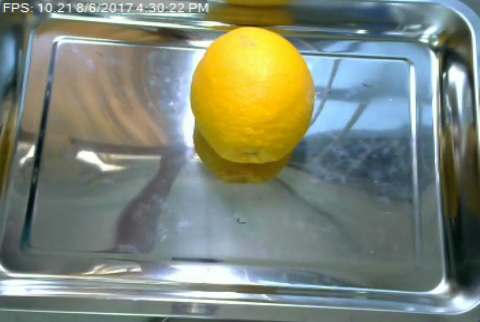Orange: (190, 26, 314, 165)
